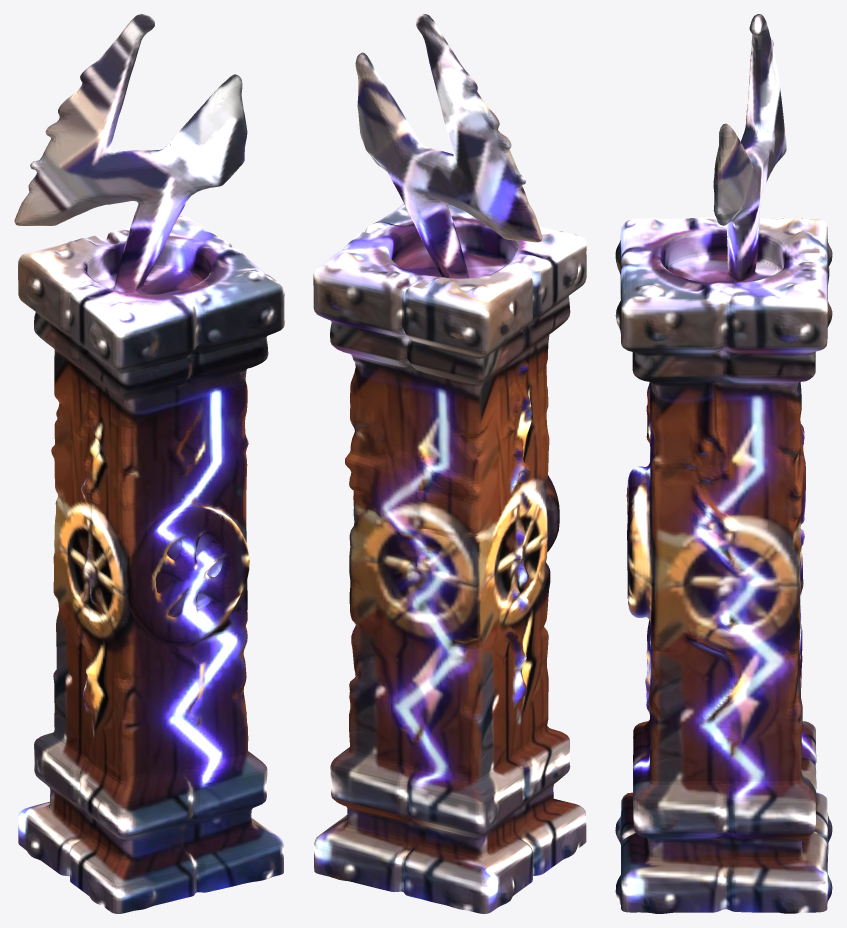
File: thunder.glb
3 views of the same model, side by side, from view 1: azimuth 30°, elevation 25°; view 2: azimuth 150°, elevation 25°; view 3: azimuth 270°, elevation 25° (orthographic). The views are drawn at different scales.
Visible parts, largest first — view 1: thunder; view 2: thunder; view 3: thunder.
Part boxes in pixels (box(x1,y1,x2,y2)): thunder: box(14, 14, 284, 913); thunder: box(313, 14, 586, 913); thunder: box(615, 14, 832, 913).
Size of the model in its own units: 0.659 by 2.54 by 0.5825.
1 material, 1 textured.
